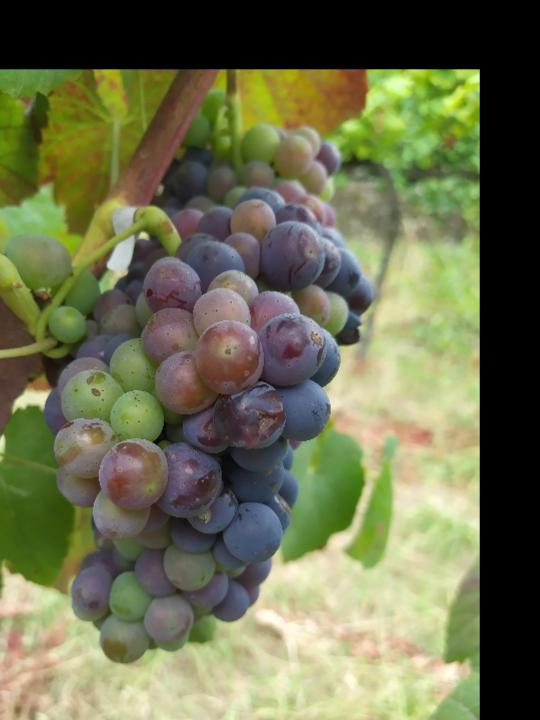grape: (41, 184, 344, 666)
